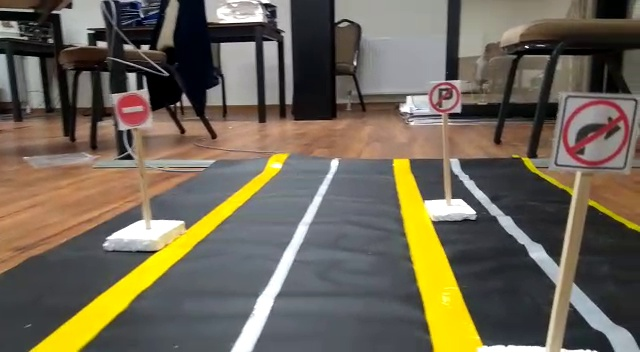girisi_olmayan_yol: (115, 92, 153, 126)
park_yapilmaz: (428, 79, 463, 114)
saga_donulmez: (558, 96, 628, 168)
